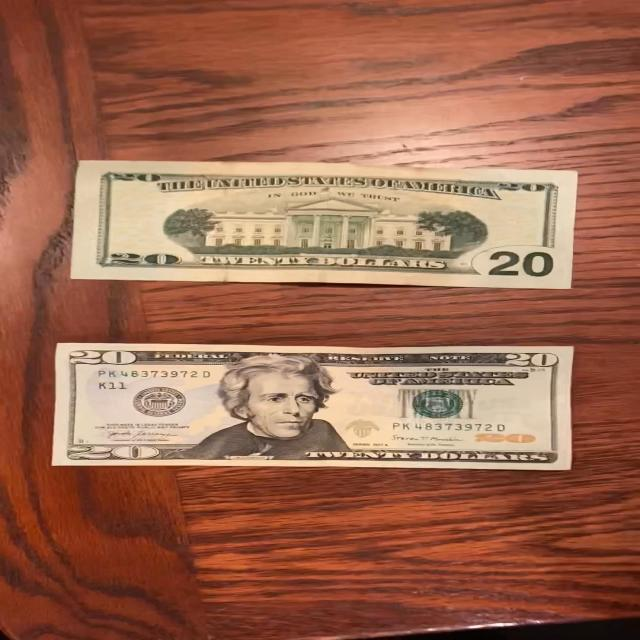20-Back: (62, 153, 584, 292)
20-Front: (39, 335, 589, 477)
